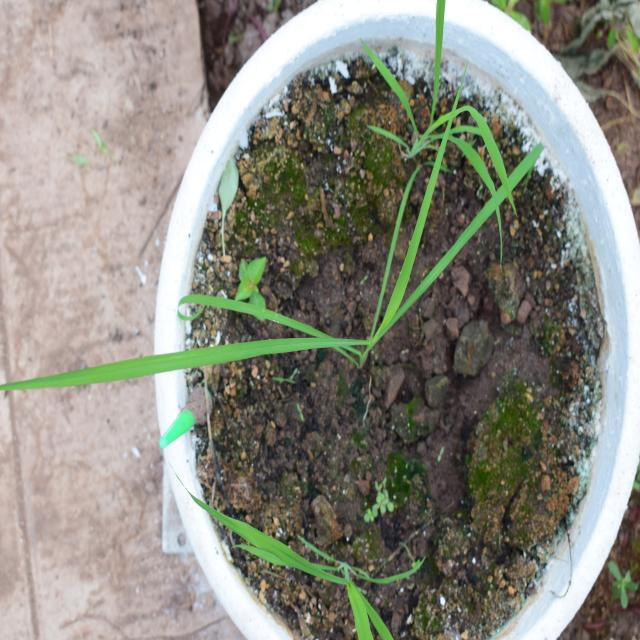barnyard_grass: (29, 111, 516, 442)
